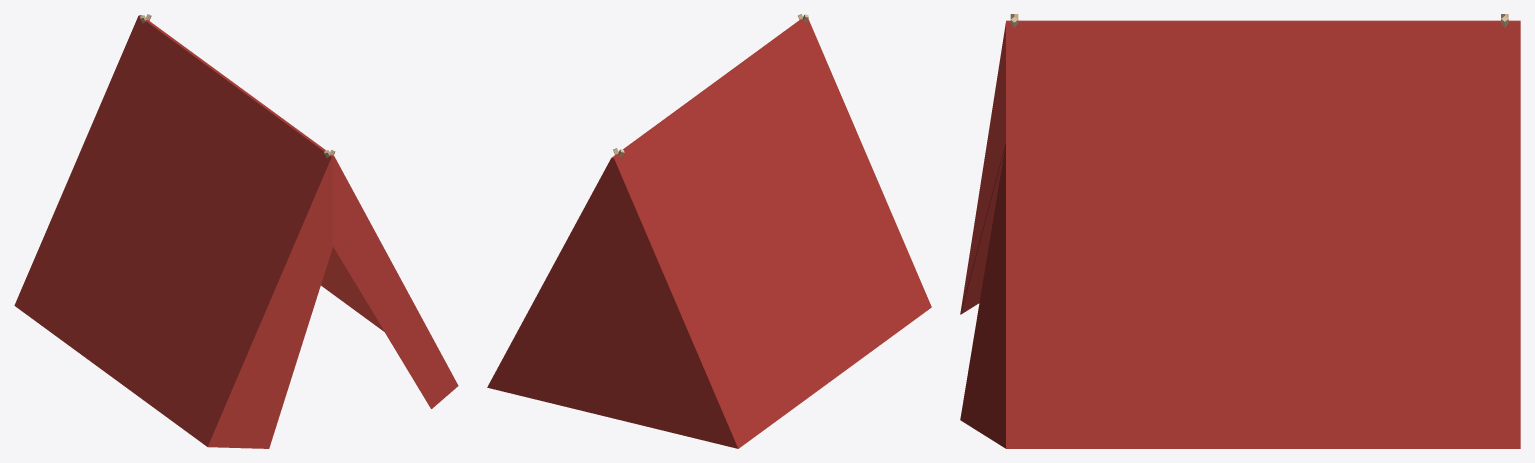
Rendered from Small_Tent.fbx.
3 renders of one model, left to right at view 1: azimuth 30°, elevation 25°; view 2: azimuth 150°, elevation 25°; view 3: azimuth 270°, elevation 25°, orthographic. The views are drawn at different scales.
Visible parts, largest first — view 1: Small Tent; view 2: Small Tent; view 3: Small Tent.
Part boxes in pixels (x1,y1,x2,y2): Small Tent: [14, 14, 458, 448]; Small Tent: [487, 14, 931, 448]; Small Tent: [960, 14, 1520, 448].
Bounding box in the file's own units: 667 × 672 × 968.
